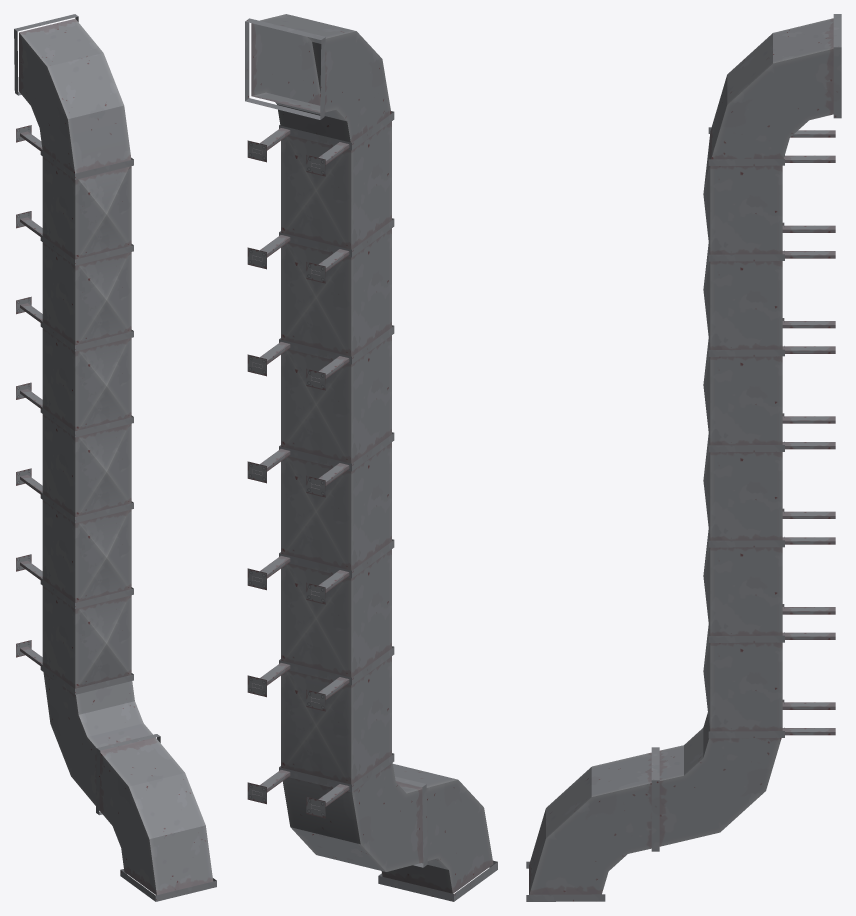
File: Chute2_LOD1.fbx
3 views of the same model, side by side, from view 1: azimuth 30°, elevation 25°; view 2: azimuth 150°, elevation 25°; view 3: azimuth 270°, elevation 25° (orthographic). The views are drawn at different scales.
Visible parts, largest first — view 1: polySurface1443; view 2: polySurface1443; view 3: polySurface1443.
Boxes of the visible parts, <box> form: polySurface1443: <box>14,14,216,901</box>; polySurface1443: <box>245,14,497,901</box>; polySurface1443: <box>526,14,841,901</box>.
Size of the model in its own units: 38.14 by 448 by 150.
